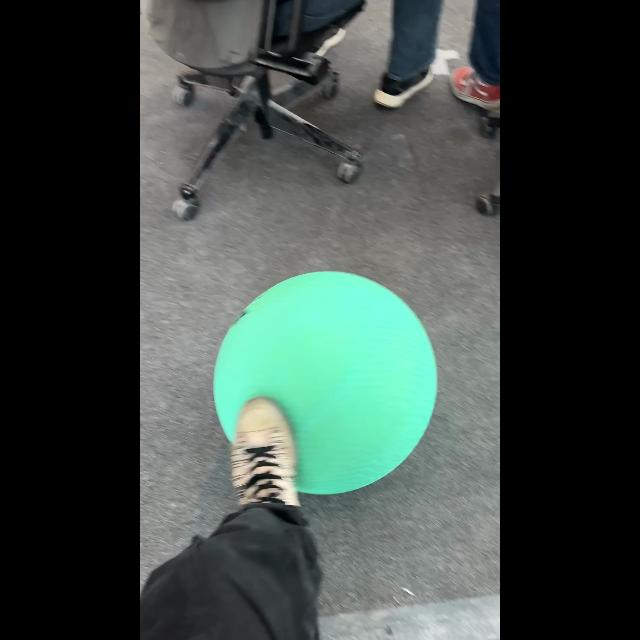ALGAE: (212, 269, 438, 495)
